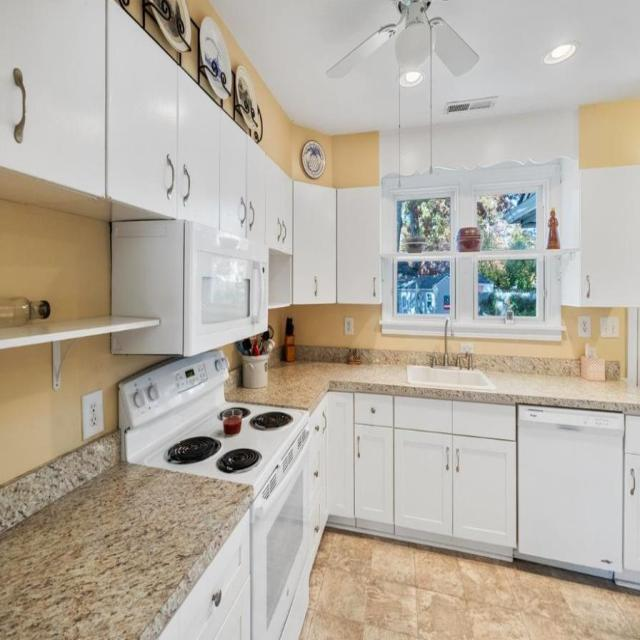dishwasher: (516, 403, 623, 579)
